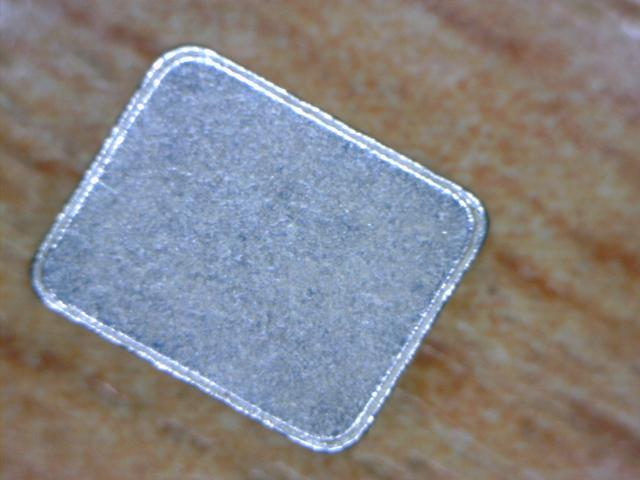nok: (31, 35, 500, 465)
